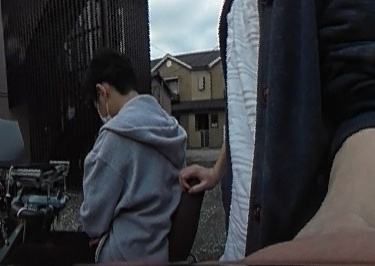person: (30, 51, 187, 266)
